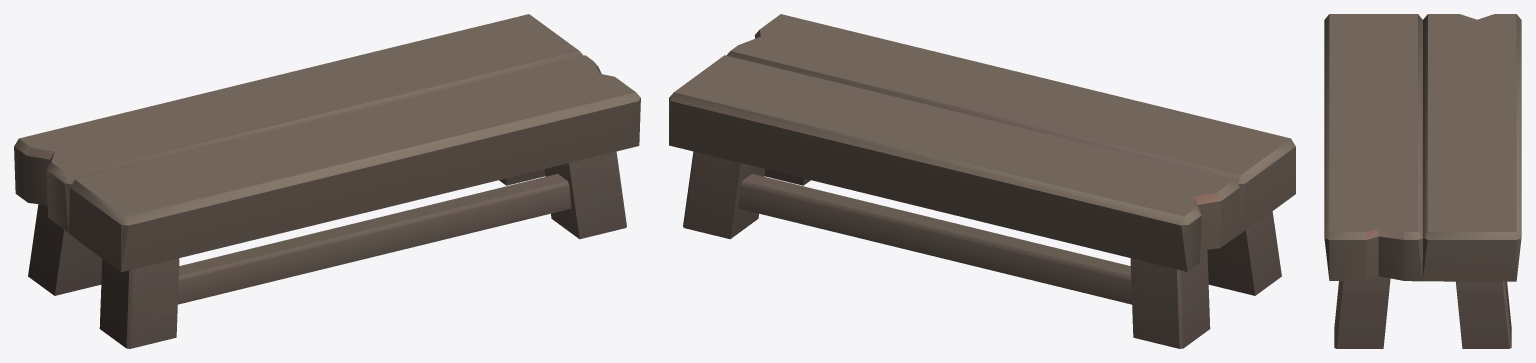
File: stone-bench.glb
3 renders of one model, left to right at view 1: azimuth 30°, elevation 25°; view 2: azimuth 150°, elevation 25°; view 3: azimuth 270°, elevation 25°, orthographic. The views are drawn at different scales.
Visible parts, largest first — view 1: bench; view 2: bench; view 3: bench.
Part boxes in pixels (x1,y1,x2,y2): bench: (14, 14, 640, 348); bench: (669, 14, 1295, 348); bench: (1324, 14, 1521, 348).
Bounding box in the file's own units: 2 × 0.5 × 0.75.
1 material, 1 textured.
